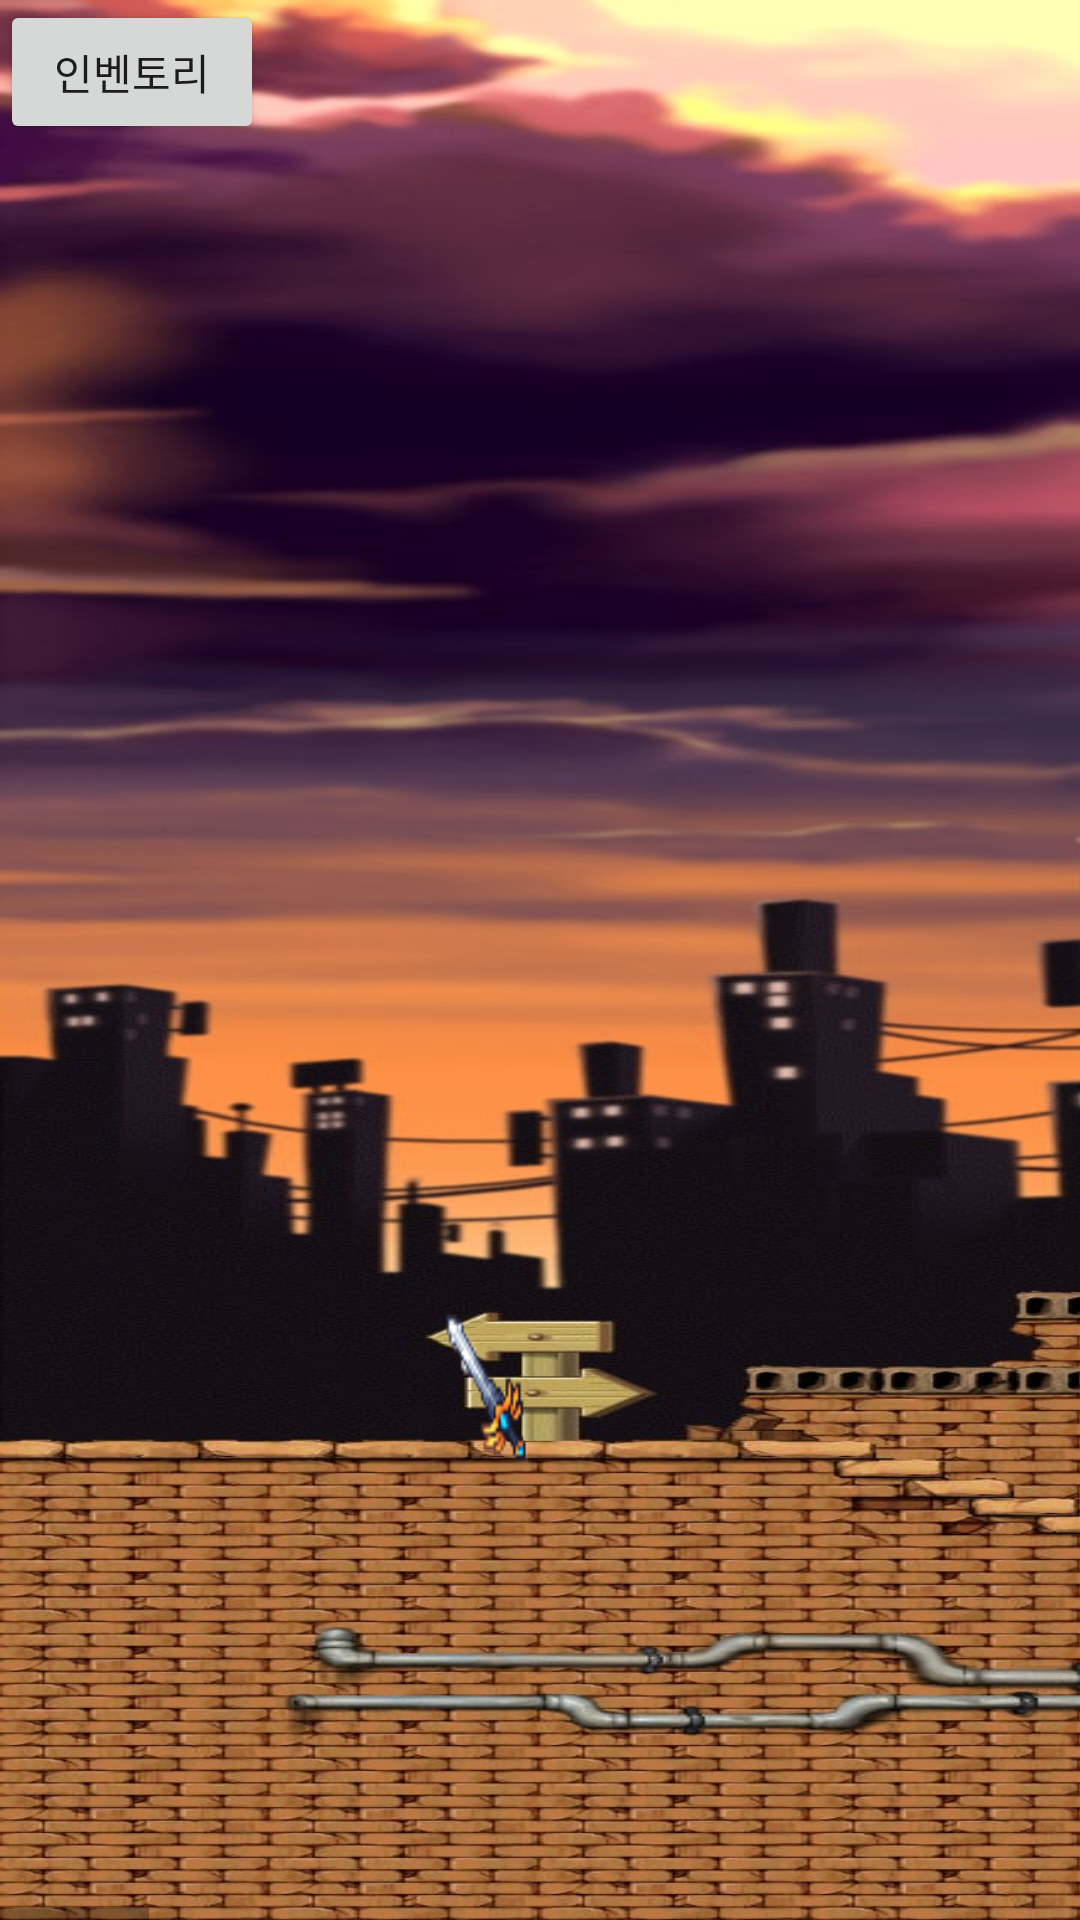

Point at icon controls on the screen. Image size 1080×1920, points as [x,y].
sword: [486,1387]
